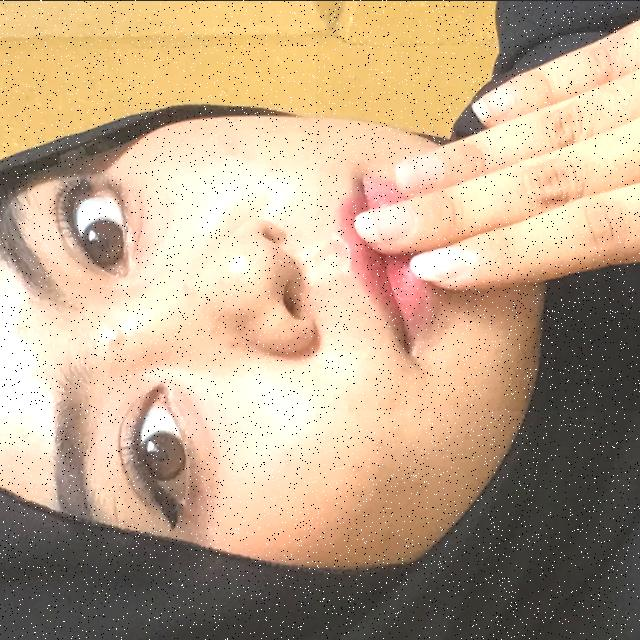ganteng: (316, 0, 640, 410)
